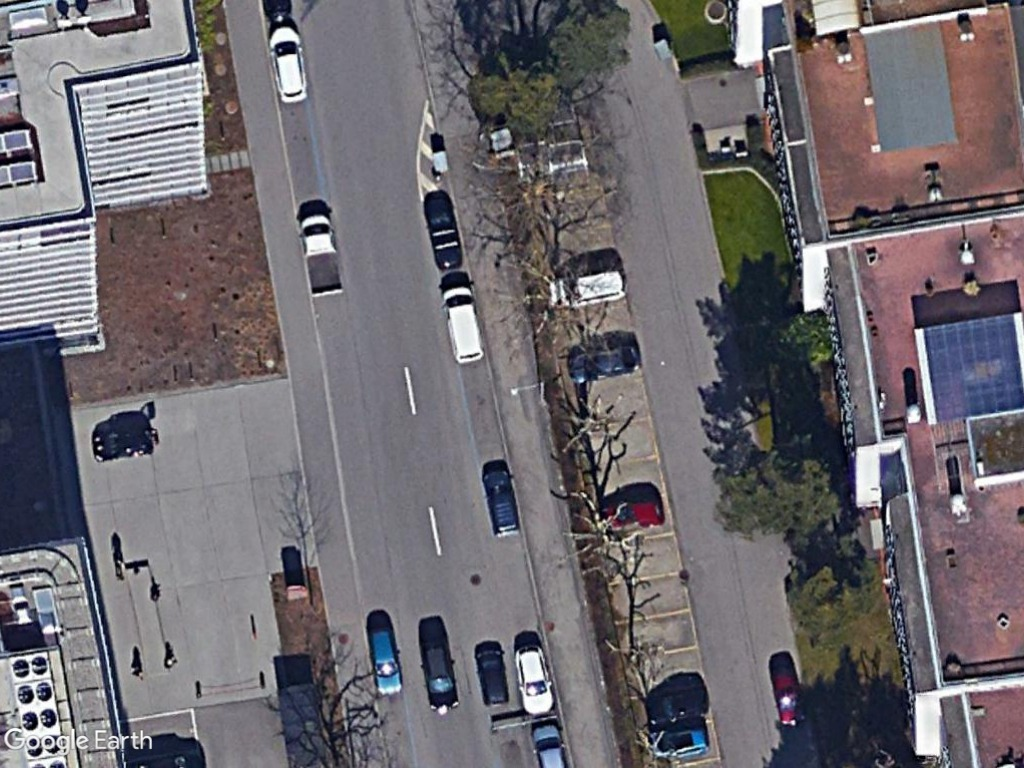car: (266, 23, 310, 104), (418, 639, 461, 714), (514, 643, 555, 718), (480, 466, 522, 539), (368, 625, 405, 701)
others: (298, 213, 347, 299)
van: (439, 282, 486, 367)
